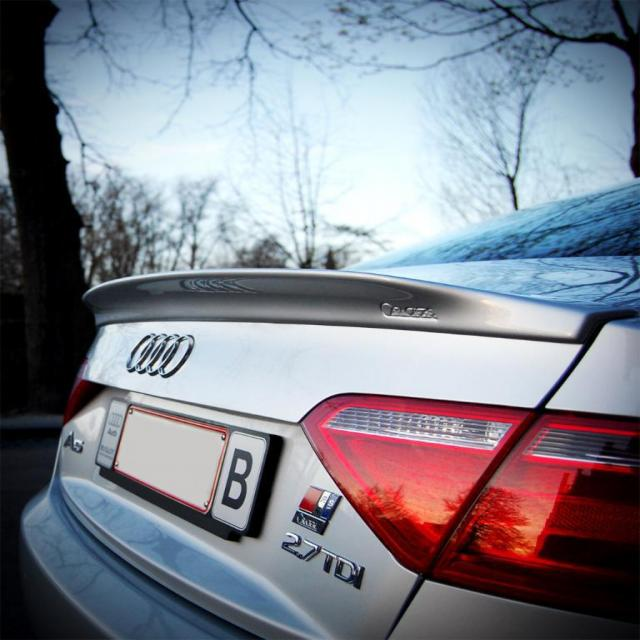License-Plates: (91, 387, 264, 547)
